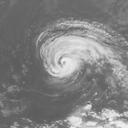cyclone: (35, 16, 96, 82)
